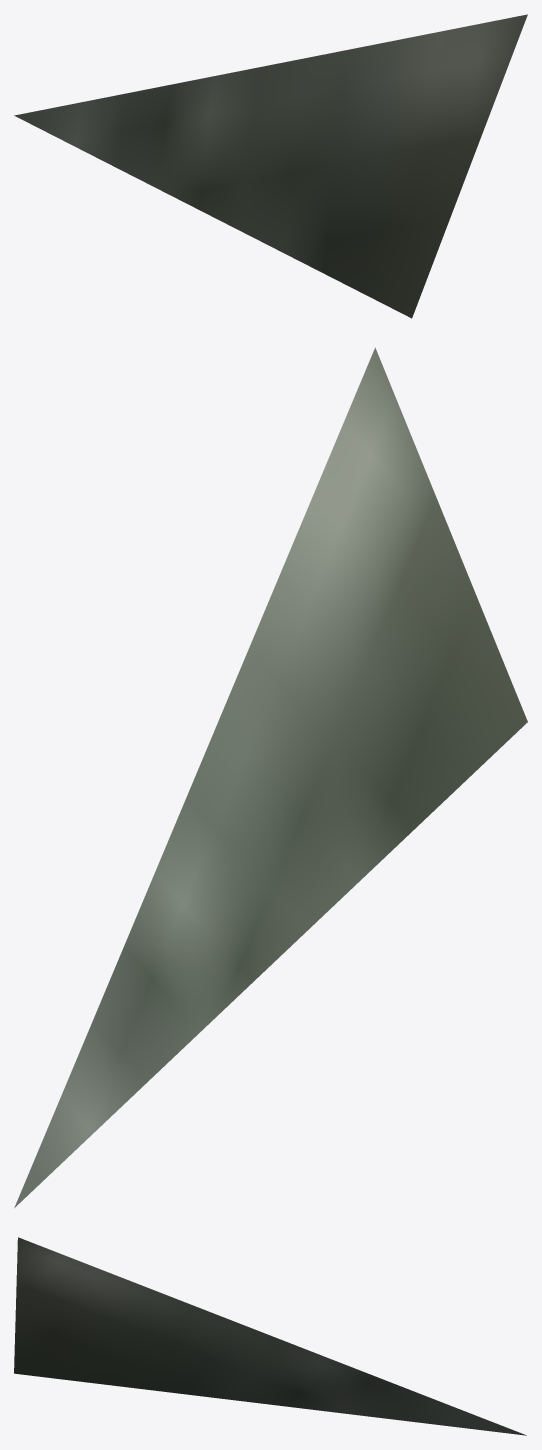
3 renders of one model, top to bottom at view 1: azimuth 30°, elevation 25°; view 2: azimuth 150°, elevation 25°; view 3: azimuth 270°, elevation 25°, orthographic. The views are drawn at different scales.
Bounding box in the file's own units: 0.0394 × 0.1162 × 0.2317.
1 material, 1 textured.
